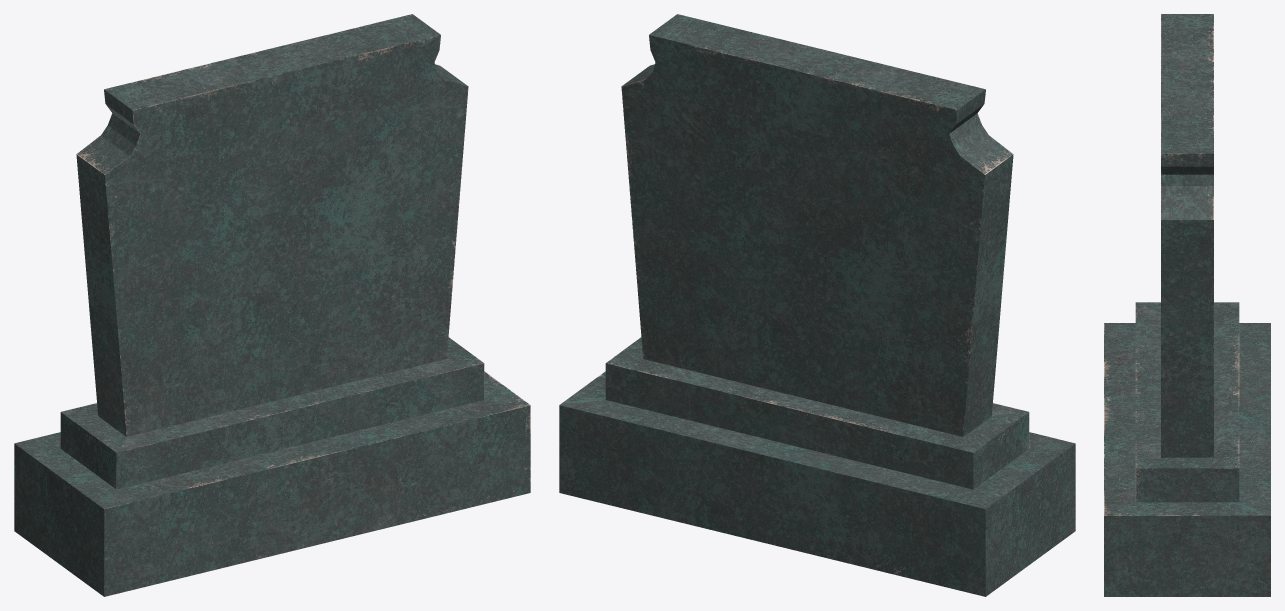
File: Lapida3.fbx
3 views of the same model, side by side, from view 1: azimuth 30°, elevation 25°; view 2: azimuth 150°, elevation 25°; view 3: azimuth 270°, elevation 25° (orthographic). The views are drawn at different scales.
Parts seen in each view (by area): view 1: Lapida3; view 2: Lapida3; view 3: Lapida3.
Part boxes in pixels (x1,y1,x2,y2): Lapida3: [14, 14, 530, 596]; Lapida3: [559, 14, 1075, 596]; Lapida3: [1104, 14, 1270, 596].
Bounding box in the file's own units: 204 × 206 × 74.51.
Materials: 1 (1 with a texture image).
